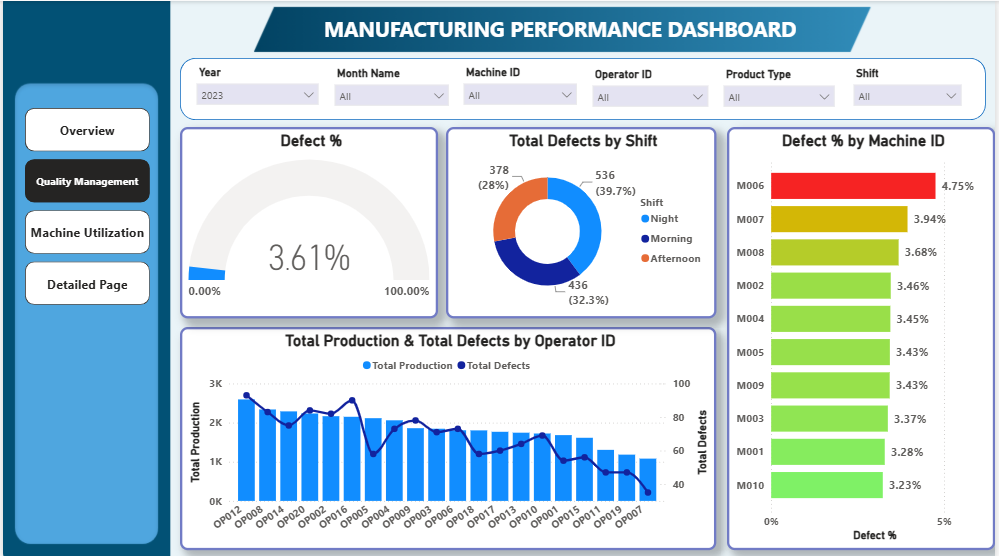

The page's visual inventory and layout, read from the dashboard file:
{"tool":"powerbi","page":{"name":"Quality Management","canvas":[1280,720],"ordinal":1},"visuals":[{"type":"pageNavigator","box":[28.3,137.5,161.6,255.1],"z":0},{"type":"shape","box":[228.8,72.9,1039.7,80.1],"z":1000},{"type":"slicer","fields":{"Values":["Calender table.Year"]},"box":[240.3,78.7,177.3,65.8],"z":2000},{"type":"slicer","fields":{"Values":["Calender table.Month Name"]},"box":[417.6,80.1,167.3,65.8],"z":3000},{"type":"slicer","fields":{"Values":["Manufacturing Data.Machine ID"]},"box":[584.9,78.7,165.9,65.8],"z":4000},{"type":"slicer","fields":{"Values":["Manufacturing Data.Operator ID"]},"box":[750.8,81.5,168.8,65.8],"z":5000},{"type":"slicer","fields":{"Values":["Manufacturing Data.Product Type"]},"box":[919.6,81.5,163,55.8],"z":6000},{"type":"slicer","fields":{"Values":["Manufacturing Data.Shift"]},"box":[1088.4,80.1,158.7,65.8],"z":7000},{"type":"lineClusteredColumnComboChart","title":"Total Production & Total Defects by Operator ID","fields":{"Category":["Manufacturing Data.Operator ID"],"Y":["Measure Table.Total Production"],"Y2":["Measure Table.Total Defects"]},"box":[228.2,420.9,691.7,287.7],"z":8000},{"type":"gauge","title":"Defect %","fields":{"Y":["Measure Table.Defect %"]},"box":[228.2,163,333.1,246.6],"z":9000},{"type":"donutChart","title":"Total Defects by Shift","fields":{"Category":["Shift.Shift"],"Y":["Measure Table.Total Defects"]},"box":[571.2,163,348.7,246.6],"z":10000},{"type":"clusteredBarChart","title":"Defect % by Machine ID","fields":{"Y":["Measure Table.Defect %"],"Category":["Manufacturing Data.Machine ID"]},"box":[934,163,345.8,545.7],"z":11000},{"type":"textbox","box":[391.2,12.9,655.8,48.9],"z":12000}]}

Visuals, with their boxes in screenshot pixels (x1, y1, x2, y2), scaled from the page's 1280x720 canvas onto the 999x556 screenshot:
pageNavigator: 22, 106, 148, 303
shape: 179, 56, 990, 118
slicer - Calender table.Year: 188, 61, 326, 112
slicer - Calender table.Month Name: 326, 62, 456, 113
slicer - Manufacturing Data.Machine ID: 456, 61, 586, 112
slicer - Manufacturing Data.Operator ID: 586, 63, 718, 114
slicer - Manufacturing Data.Product Type: 718, 63, 845, 106
slicer - Manufacturing Data.Shift: 849, 62, 973, 113
"Total Production & Total Defects by Operator ID" lineClusteredColumnComboChart: 178, 325, 718, 547
"Defect %" gauge: 178, 126, 438, 316
"Total Defects by Shift" donutChart: 446, 126, 718, 316
"Defect % by Machine ID" clusteredBarChart: 729, 126, 998, 547
textbox: 305, 10, 817, 48
